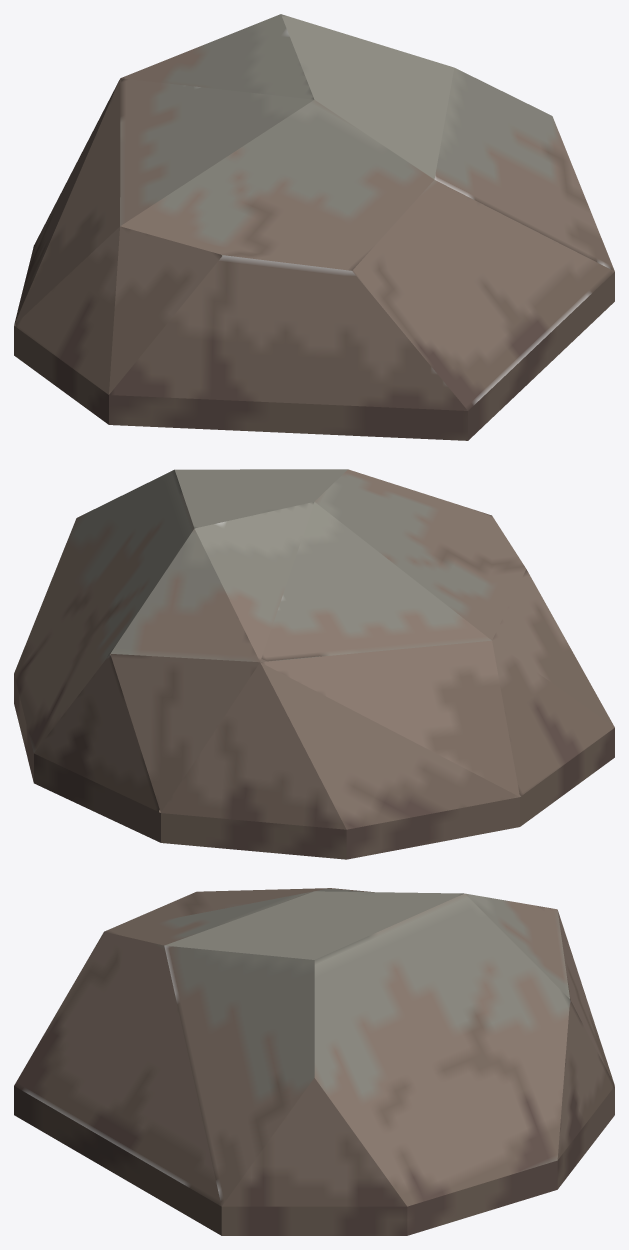
File: small stone.fbx
3 views of the same model, one above another, from view 1: azimuth 30°, elevation 25°; view 2: azimuth 150°, elevation 25°; view 3: azimuth 270°, elevation 25° (orthographic). The views are drawn at different scales.
Parts seen in each view (by area): view 1: Icosphere, Icosphere.001; view 2: Icosphere, Icosphere.001; view 3: Icosphere, Icosphere.001.
Part boxes in pixels (box(x1,y1,x2,y2)): Icosphere: box(14, 14, 614, 410); Icosphere.001: box(14, 254, 614, 440); Icosphere: box(14, 469, 614, 829); Icosphere.001: box(14, 654, 614, 859); Icosphere: box(14, 888, 614, 1206); Icosphere.001: box(14, 1085, 614, 1235).
Size of the model in its own units: 154 by 75.89 by 162.
3 materials, 3 textured.
